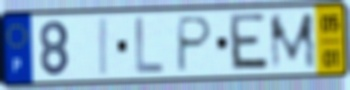8: (38, 19, 72, 78)
E: (228, 11, 272, 73)
I: (98, 16, 110, 78)
L: (133, 15, 166, 77)
M: (267, 10, 319, 73)
P: (174, 15, 215, 75)
